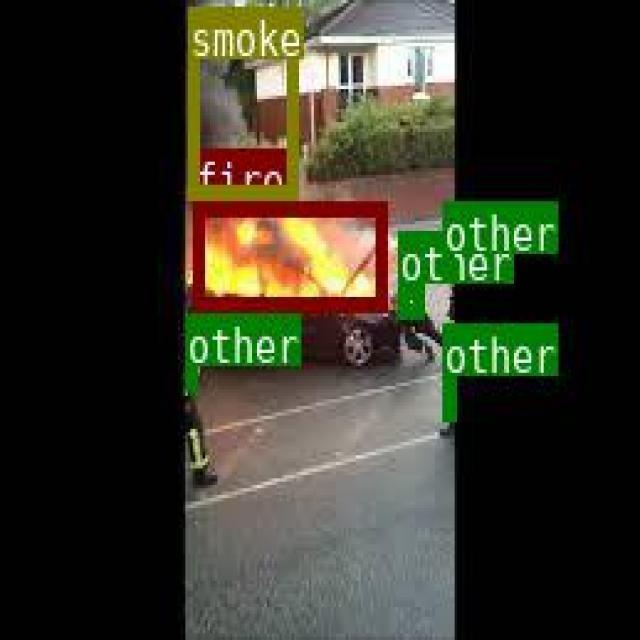fire: (192, 201, 383, 310)
smoke: (186, 4, 296, 196)
